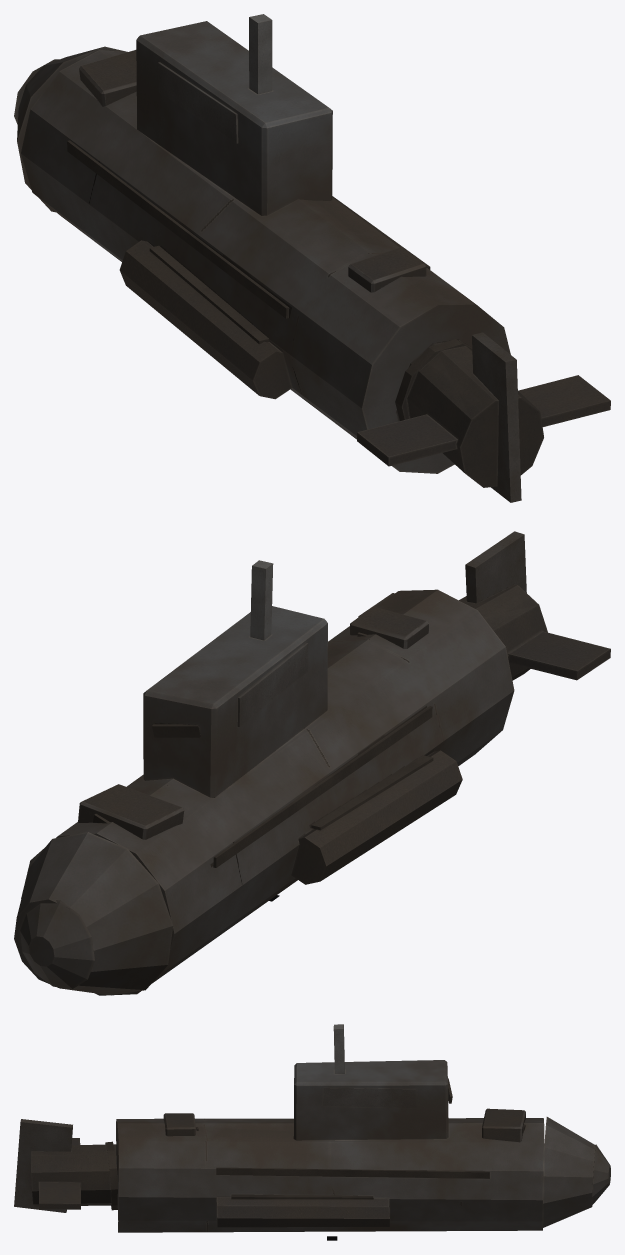
The model's file is chs_lamprey_wreck.fbx.
The picture shows the model from 3 angles, top to bottom: view 1: azimuth 30°, elevation 25°; view 2: azimuth 150°, elevation 25°; view 3: azimuth 270°, elevation 25°; orthographic projection. The views are drawn at different scales.
Parts seen in each view (by area): view 1: base_bar, turret1_bar, turret2_bar; view 2: base_bar, turret1_bar, turret2_bar; view 3: base_bar, turret1_bar, turret2_bar.
Part boxes in pixels (left/top/right/bottom): base_bar: left=14, top=14, right=610, bottom=502; turret1_bar: left=79, top=50, right=136, bottom=106; turret2_bar: left=348, top=247, right=426, bottom=292; base_bar: left=14, top=531, right=610, bottom=995; turret1_bar: left=78, top=784, right=184, bottom=839; turret2_bar: left=350, top=606, right=428, bottom=648; base_bar: left=14, top=1024, right=610, bottom=1232; turret1_bar: left=482, top=1108, right=525, bottom=1142; turret2_bar: left=163, top=1113, right=198, bottom=1136.
Bounding box in the file's own units: 313 × 459 × 1167.
2 materials, 2 textured.
